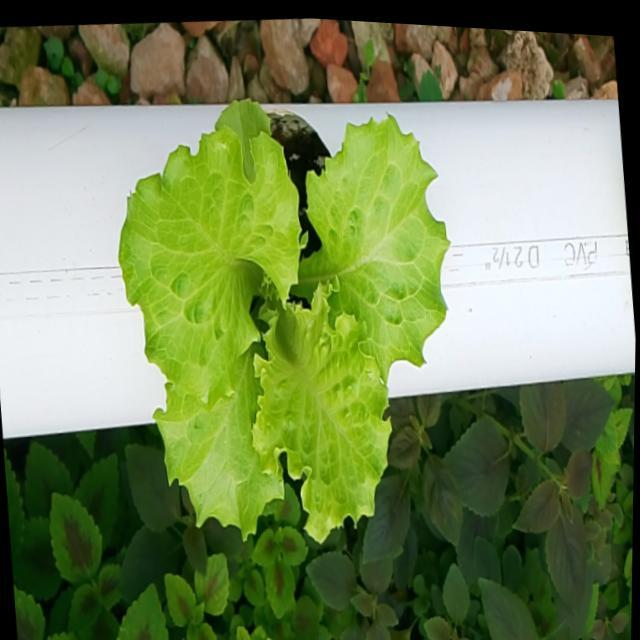Baby: (119, 99, 449, 542)
